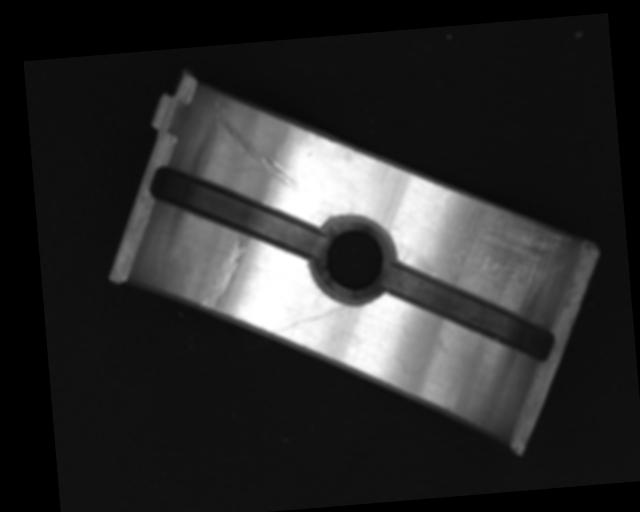gap: (383, 251, 556, 372), (149, 156, 322, 269)
hole: (304, 211, 401, 309)
nick: (213, 90, 297, 193), (195, 235, 252, 313), (269, 304, 349, 335)
scratch: (440, 193, 581, 317)
